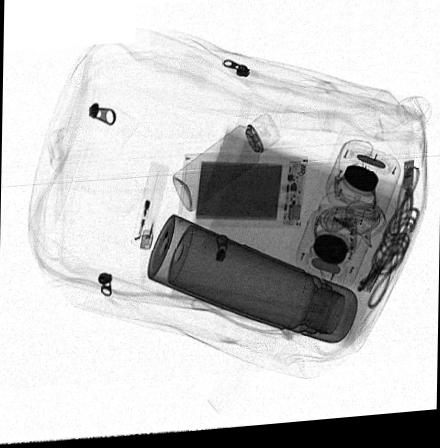Lighter: (131, 163, 170, 253)
Powerbank: (177, 156, 309, 233)
Sprayer: (172, 117, 281, 216)
